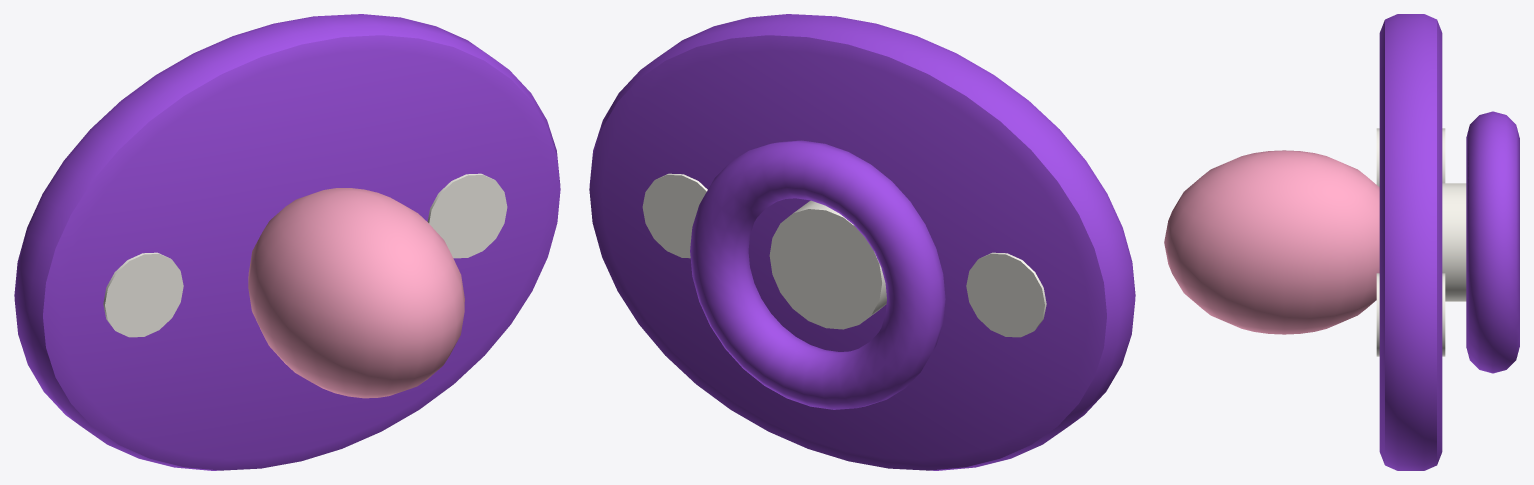
File: dummy.glb
The picture shows the model from 3 angles, left to right: view 1: azimuth 30°, elevation 25°; view 2: azimuth 150°, elevation 25°; view 3: azimuth 270°, elevation 25°; orthographic projection. The views are drawn at different scales.
Visible parts, largest first — view 1: dummy; view 2: dummy; view 3: dummy.
Part boxes in pixels (x1,y1,x2,y2): dummy: (14, 14, 560, 470); dummy: (589, 14, 1135, 470); dummy: (1164, 14, 1519, 470).
Bounding box in the file's own units: 3.77 × 2.9 × 2.39.
